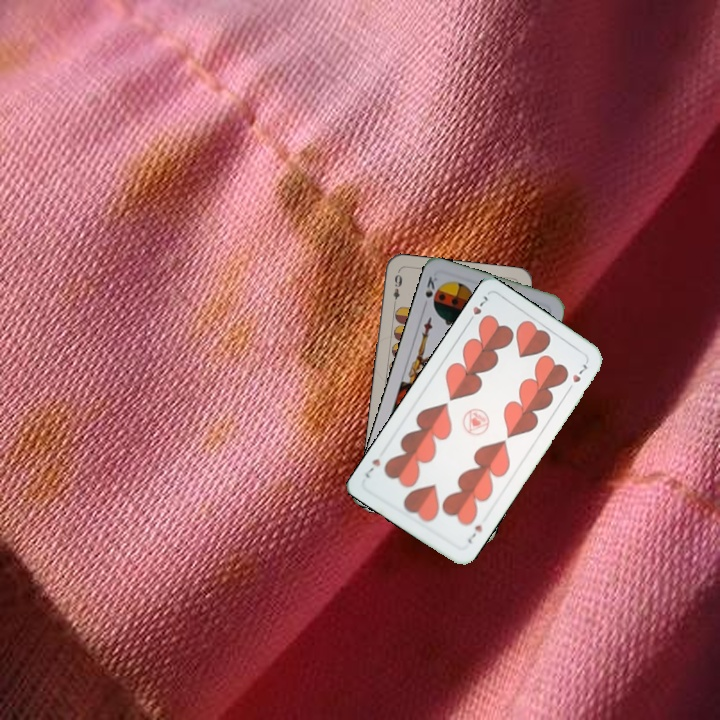E9: (389, 268, 405, 309)
H7: (463, 292, 490, 327), (463, 521, 485, 546)
SK: (421, 272, 442, 310)
